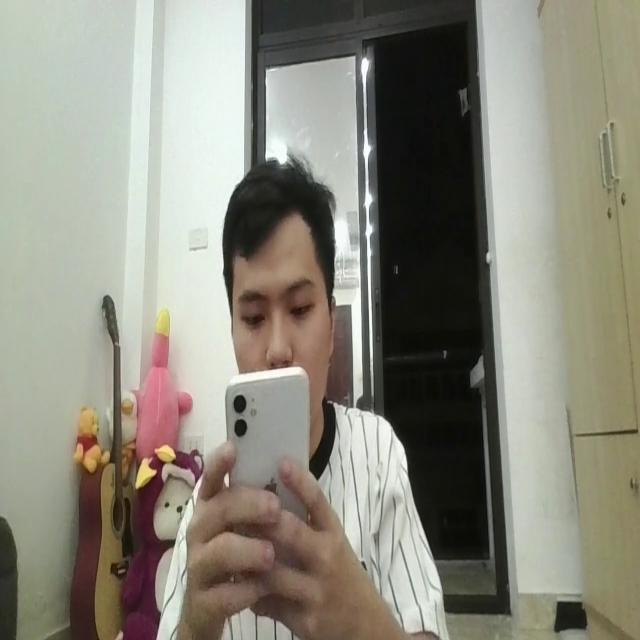phone: (221, 360, 317, 578)
student: (165, 143, 449, 640)
